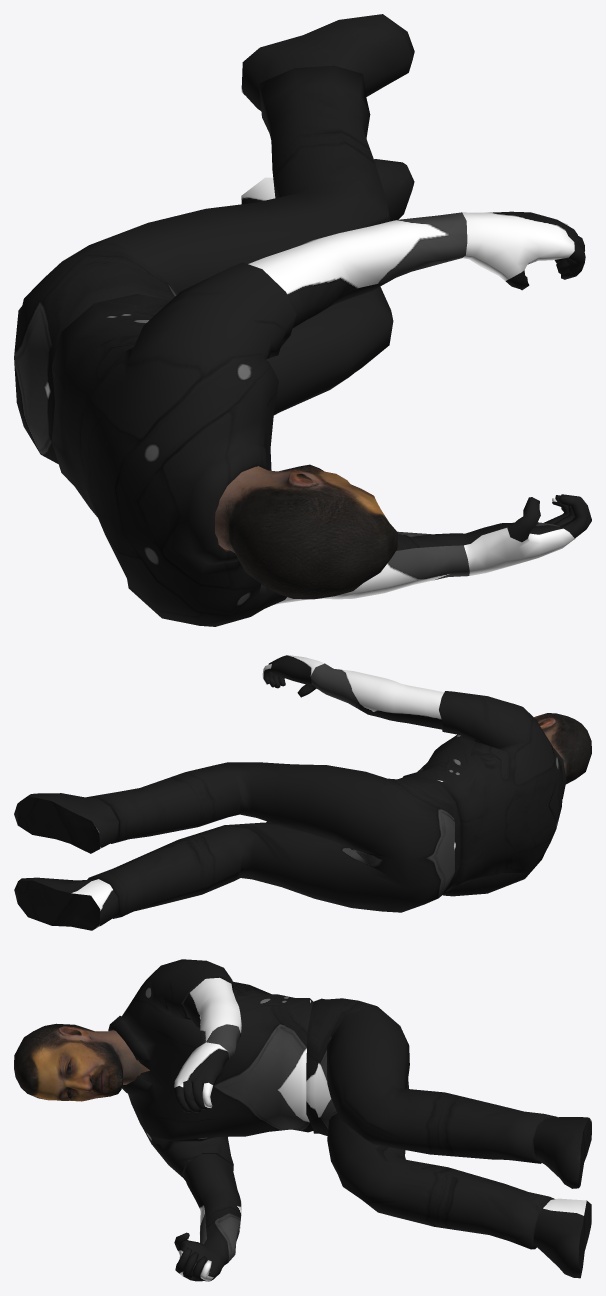
File: Caucasian_Male.obj
3 views of the same model, one above another, from view 1: azimuth 30°, elevation 25°; view 2: azimuth 150°, elevation 25°; view 3: azimuth 270°, elevation 25° (orthographic). The views are drawn at different scales.
Visible parts, largest first — view 1: driver; view 2: driver; view 3: driver.
Part boxes in pixels (bbox=[...]): driver: bbox=[14, 14, 591, 626]; driver: bbox=[14, 655, 591, 930]; driver: bbox=[14, 959, 591, 1281].
Size of the model in its own units: 1.04 by 0.5876 by 1.35.
